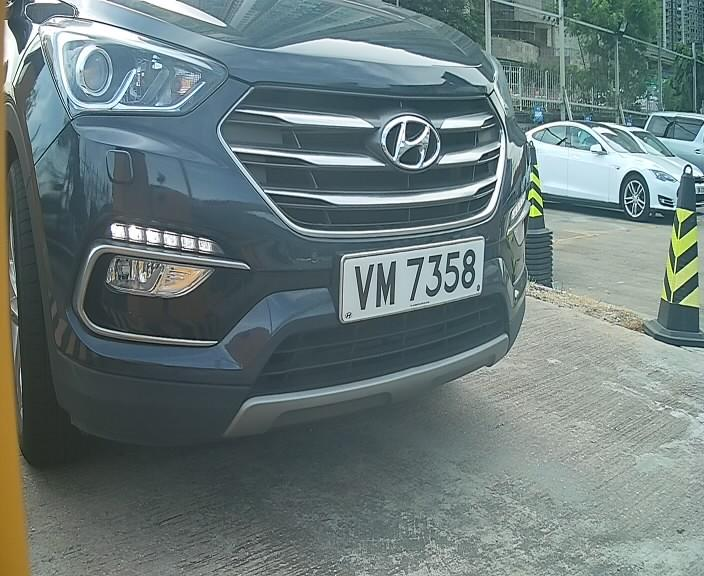Car: (13, 1, 598, 463)
License Plate: (327, 229, 491, 327)
